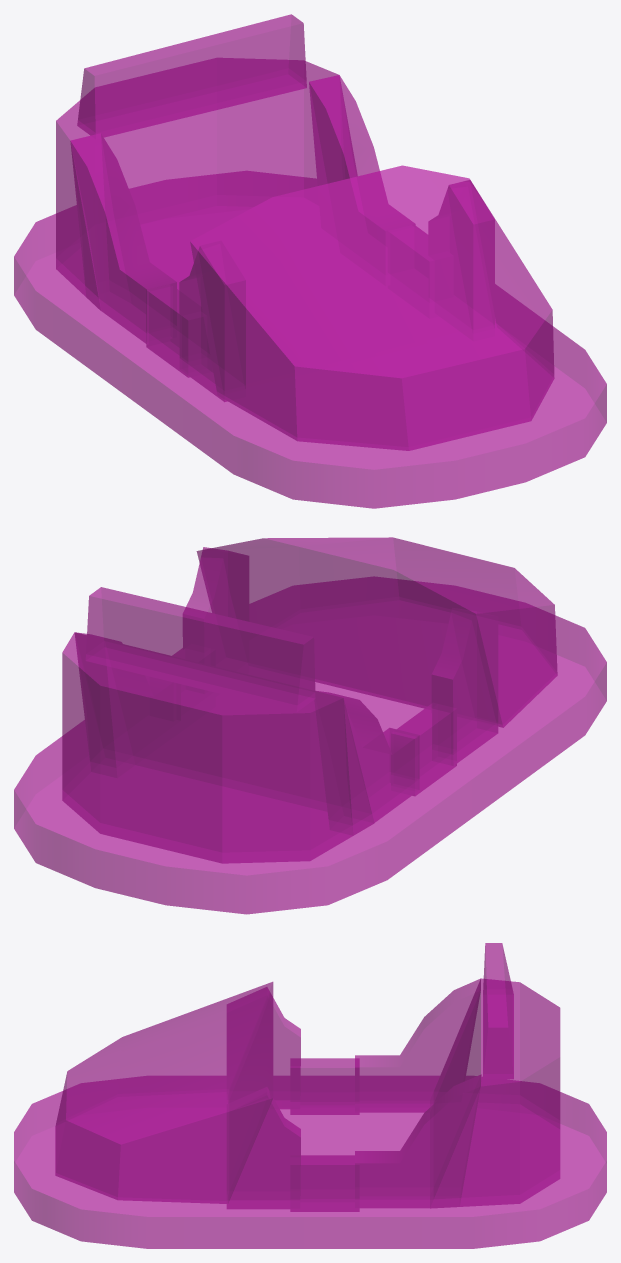
Rendered from SM_Veh_Bumper_Cars_01_Collision.fbx.
3 renders of one model, top to bottom at view 1: azimuth 30°, elevation 25°; view 2: azimuth 150°, elevation 25°; view 3: azimuth 270°, elevation 25°, orthographic. The views are drawn at different scales.
Parts seen in each view (by area): view 1: SM_Veh_Bumper_Cars_01_Collision; view 2: SM_Veh_Bumper_Cars_01_Collision; view 3: SM_Veh_Bumper_Cars_01_Collision.
Boxes of the visible parts, bbox=[...] form: SM_Veh_Bumper_Cars_01_Collision: bbox=[14, 14, 606, 508]; SM_Veh_Bumper_Cars_01_Collision: bbox=[14, 537, 606, 914]; SM_Veh_Bumper_Cars_01_Collision: bbox=[14, 943, 606, 1248].
Bounding box in the file's own units: 136 × 86.11 × 242.
